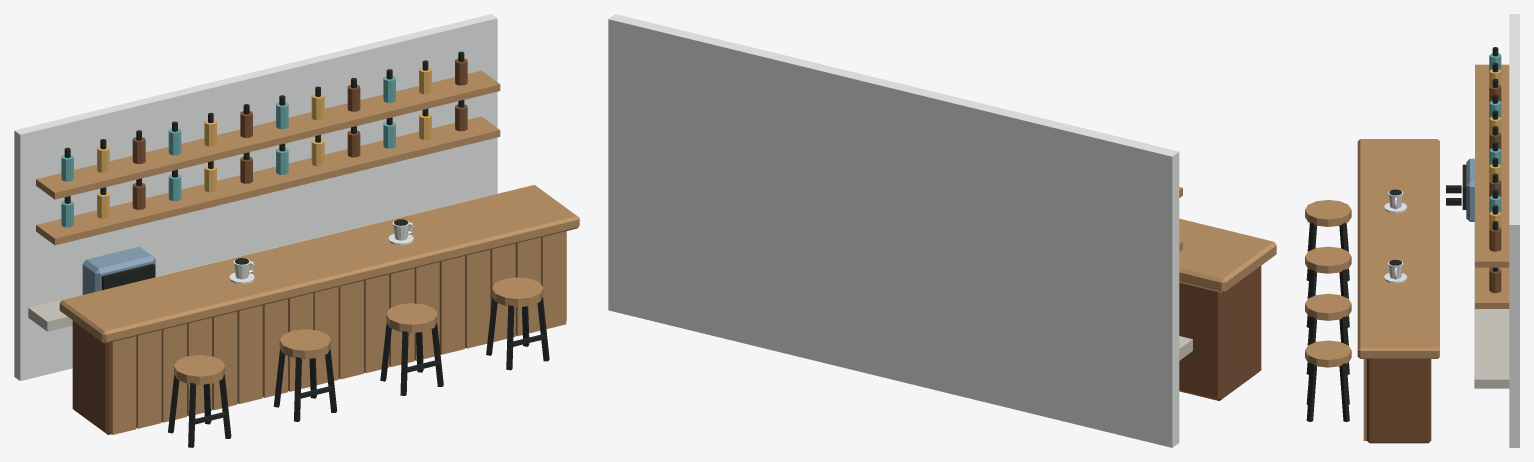
The model's file is gh_cafe_bar_v01.glb.
3 views of the same model, side by side, from view 1: azimuth 30°, elevation 25°; view 2: azimuth 150°, elevation 25°; view 3: azimuth 270°, elevation 25° (orthographic). The views are drawn at different scales.
Parts seen in each view (by area): view 1: Warm oak coffee bar bottle shelves espresso and stools; view 2: Warm oak coffee bar bottle shelves espresso and stools; view 3: Warm oak coffee bar bottle shelves espresso and stools.
Part boxes in pixels (x1,y1,x2,y2): Warm oak coffee bar bottle shelves espresso and stools: (14, 14, 579, 447); Warm oak coffee bar bottle shelves espresso and stools: (608, 14, 1276, 447); Warm oak coffee bar bottle shelves espresso and stools: (1305, 14, 1519, 447).
Bounding box in the file's own units: 6 × 2.96 × 2.58.
Materials: 1 (1 with a texture image).
